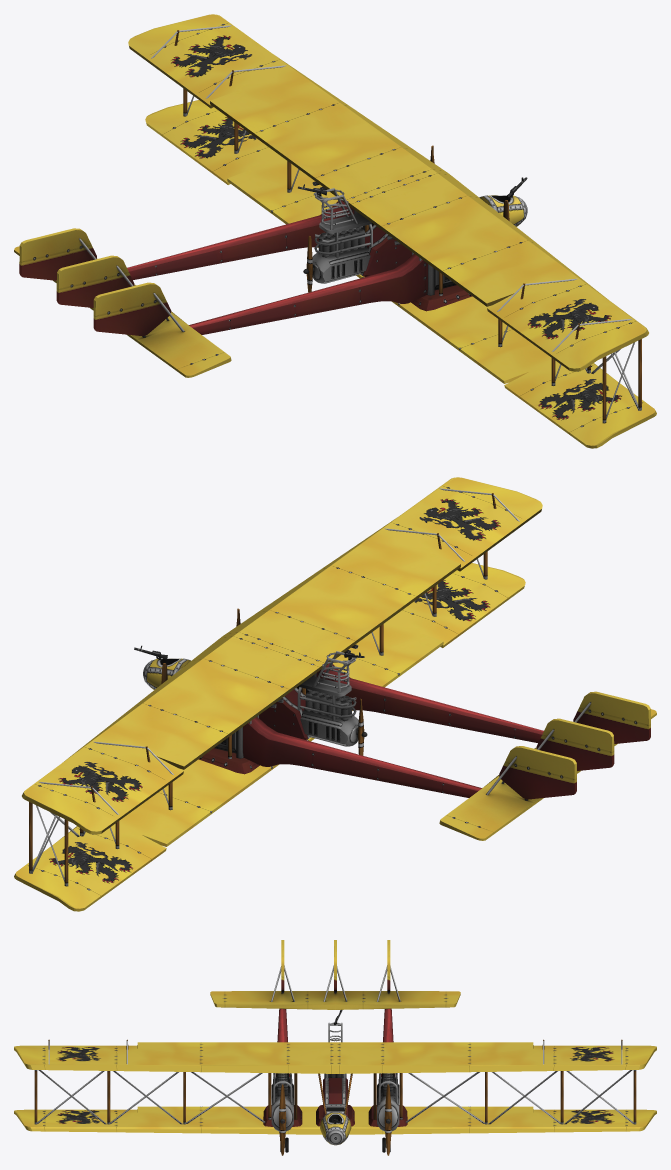
The picture shows the model from 3 angles, top to bottom: view 1: azimuth 30°, elevation 25°; view 2: azimuth 150°, elevation 25°; view 3: azimuth 270°, elevation 25°; orthographic projection. The views are drawn at different scales.
Parts seen in each view (by area): view 1: Plane008; view 2: Plane008; view 3: Plane008.
Boxes of the visible parts, x1,y1,x2,y2 form: Plane008: (14,14,656,448); Plane008: (14,477,656,911); Plane008: (14,940,656,1155).
Bounding box in the file's own units: 316 × 87.82 × 519.
Materials: 1 (1 with a texture image).
